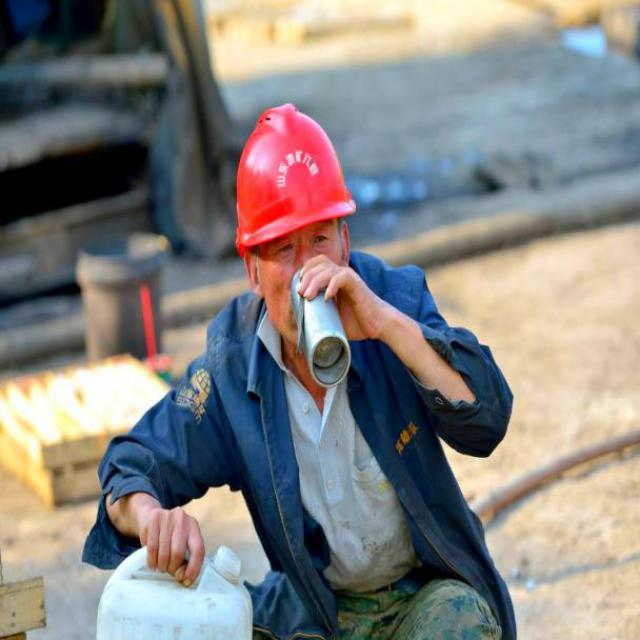helmet: (210, 86, 359, 319)
